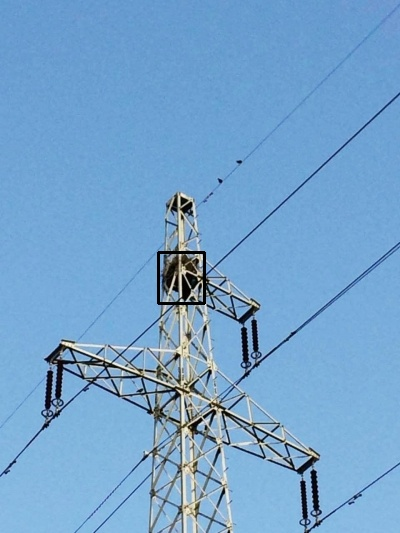bird-nest: (165, 254, 199, 290)
